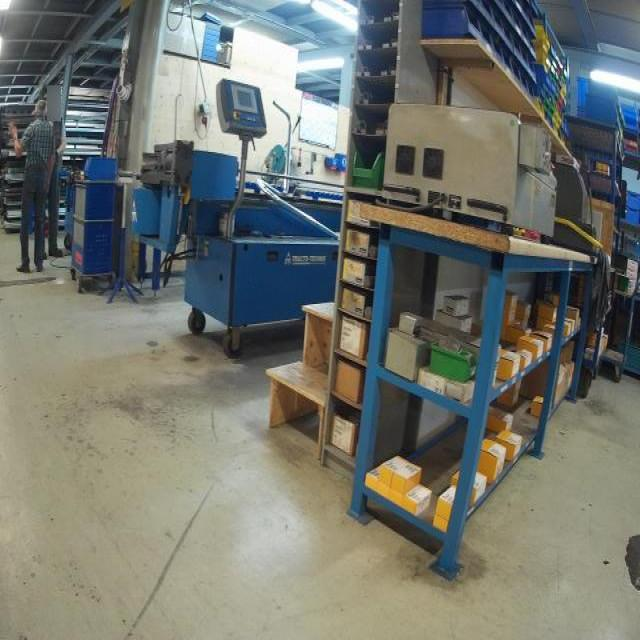small_load_carrier: (627, 190, 640, 208), (628, 211, 640, 227)
